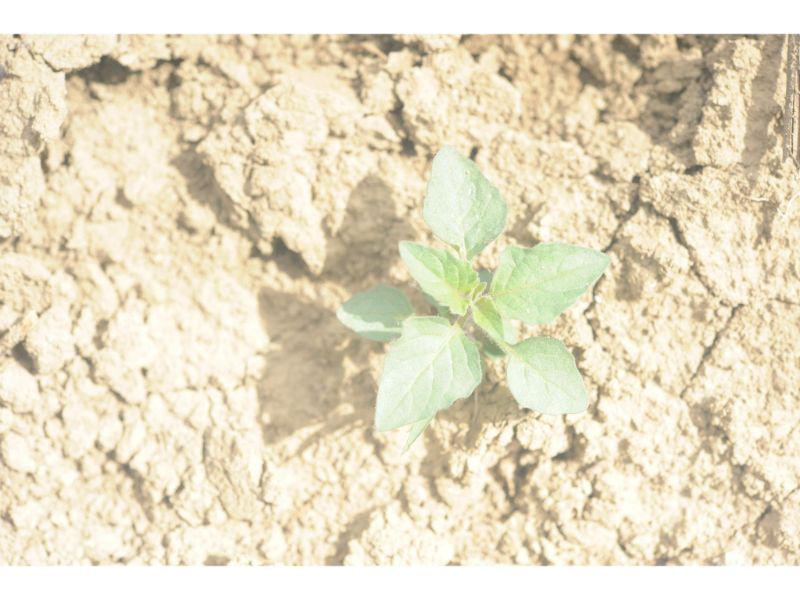nightshade: (335, 144, 609, 432)
